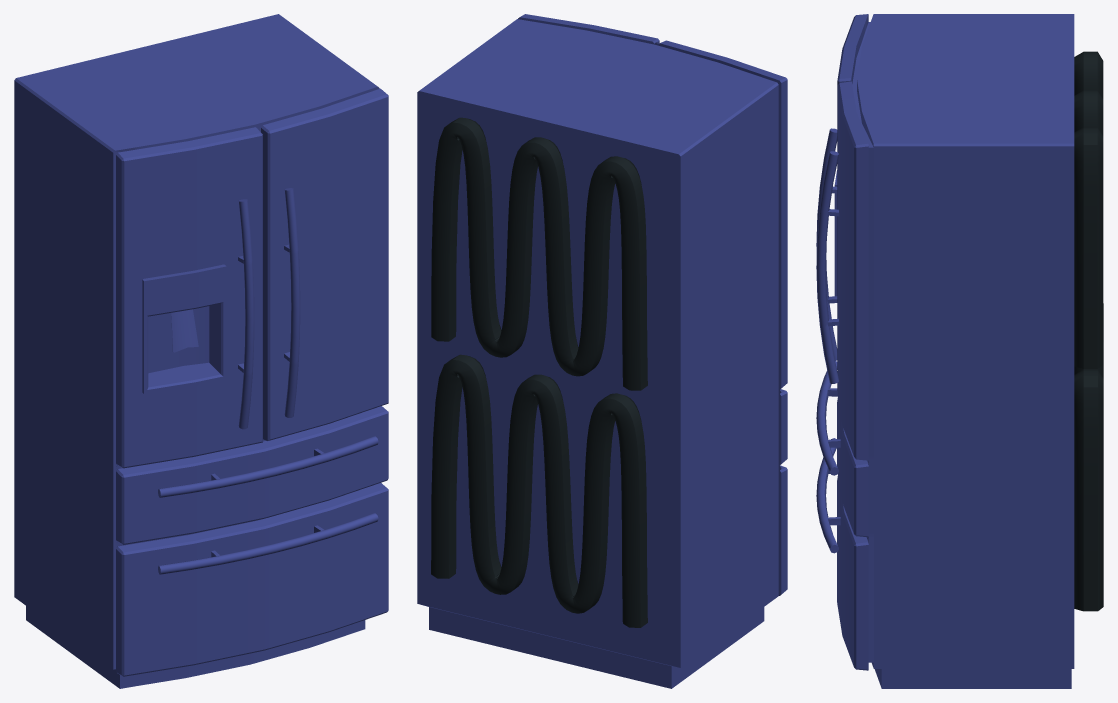
The model's file is Fridge.fbx.
The picture shows the model from 3 angles, left to right: view 1: azimuth 30°, elevation 25°; view 2: azimuth 150°, elevation 25°; view 3: azimuth 270°, elevation 25°; orthographic projection. The views are drawn at different scales.
Visible parts, largest first — view 1: fridge; view 2: fridge; view 3: fridge.
Part boxes in pixels (x1,y1,x2,y2): fridge: (14, 14, 388, 688); fridge: (417, 14, 787, 688); fridge: (816, 14, 1103, 688).
Size of the model in its own units: 98.46 by 191 by 90.62.
